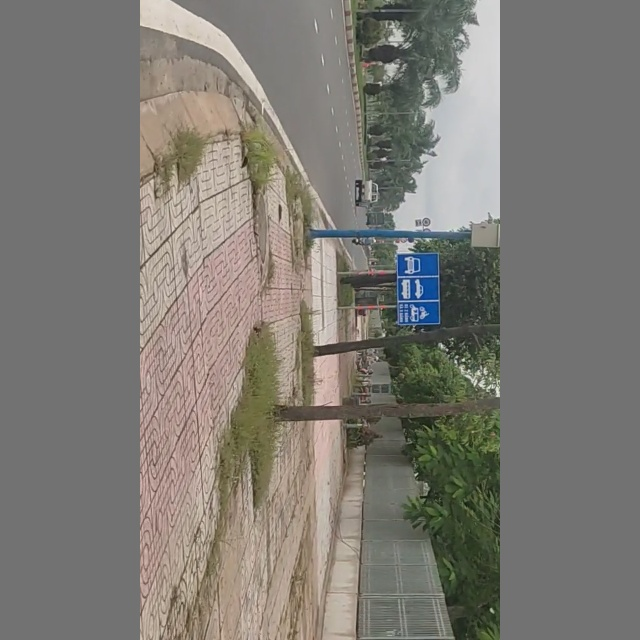R.415a: (393, 251, 446, 327)
